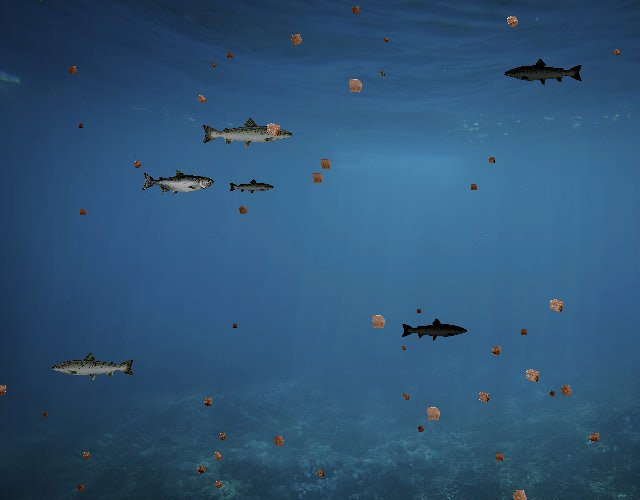Fish: (200, 117, 294, 151), (50, 351, 136, 382), (503, 57, 584, 86), (141, 169, 214, 196), (400, 317, 468, 342), (229, 178, 276, 195)
Pellet: (500, 9, 525, 34), (346, 1, 364, 19), (78, 447, 94, 463), (484, 153, 498, 167), (546, 387, 559, 400), (208, 60, 218, 70)
